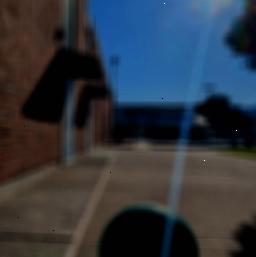algae: (96, 200, 198, 257)
